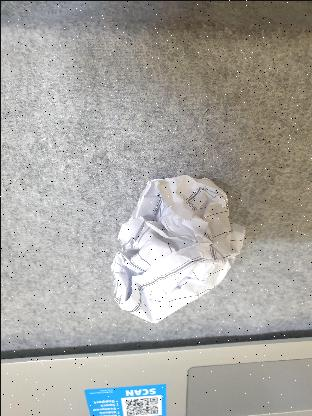Others: (104, 160, 252, 328)
